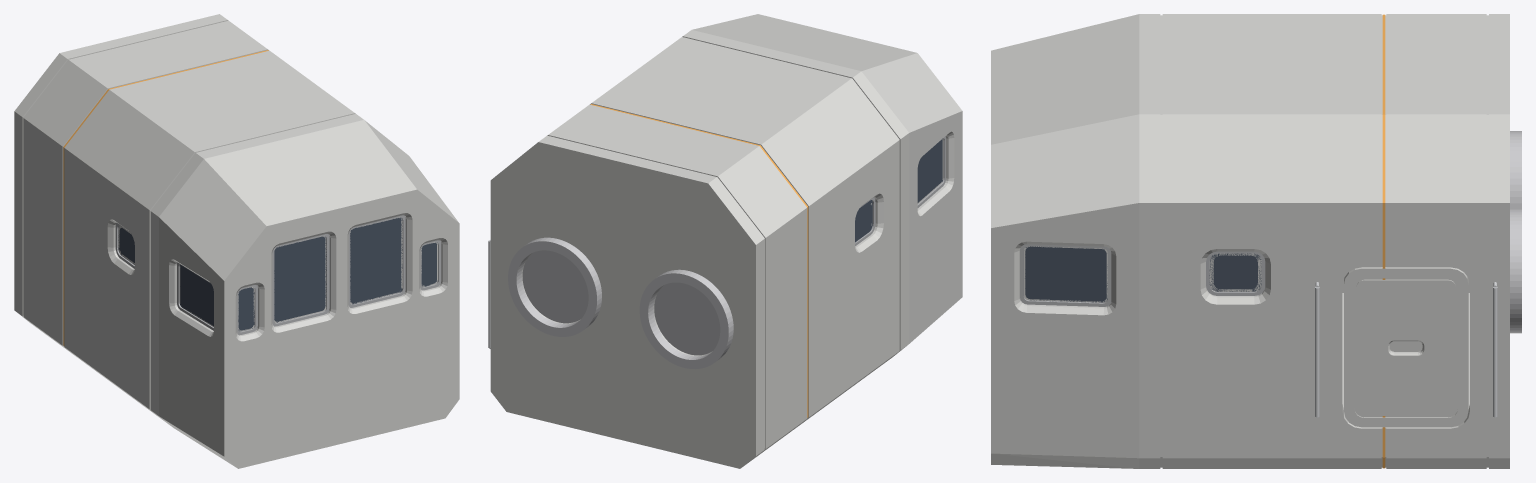
The model's file is ax_rover_01_cab2.glb.
3 views of the same model, side by side, from view 1: azimuth 30°, elevation 25°; view 2: azimuth 150°, elevation 25°; view 3: azimuth 270°, elevation 25° (orthographic). The views are drawn at different scales.
Visible parts, largest first — view 1: hub_shell, window_glass, window_frames, orange_stripes; view 2: hub_shell, suitport_rings, suitport_hatch_r, suitport_hatch_l, window_glass, orange_stripes, window_frames; view 3: hub_shell, hatch_door_1, window_glass, suitport_rings, window_frames, handrails, orange_stripes.
Boxes of the visible parts, bbox=[...] form: hub_shell: bbox=[14, 14, 459, 468]; window_glass: bbox=[118, 217, 437, 331]; window_frames: bbox=[115, 215, 441, 335]; orange_stripes: bbox=[63, 50, 268, 345]; hub_shell: bbox=[490, 14, 962, 468]; suitport_rings: bbox=[508, 237, 733, 368]; suitport_hatch_r: bbox=[654, 282, 720, 355]; suitport_hatch_l: bbox=[522, 250, 588, 323]; window_glass: bbox=[855, 138, 942, 242]; orange_stripes: bbox=[590, 104, 808, 417]; window_frames: bbox=[855, 136, 945, 246]; hub_shell: bbox=[991, 14, 1509, 468]; hatch_door_1: bbox=[1344, 267, 1468, 427]; window_glass: bbox=[1025, 246, 1261, 302]; suitport_rings: bbox=[1510, 131, 1521, 333]; window_frames: bbox=[1020, 244, 1265, 306]; handrails: bbox=[1315, 282, 1497, 417]; orange_stripes: bbox=[1382, 14, 1385, 468].
Bounding box in the file's own units: 2.58 × 2.56 × 3.58.
